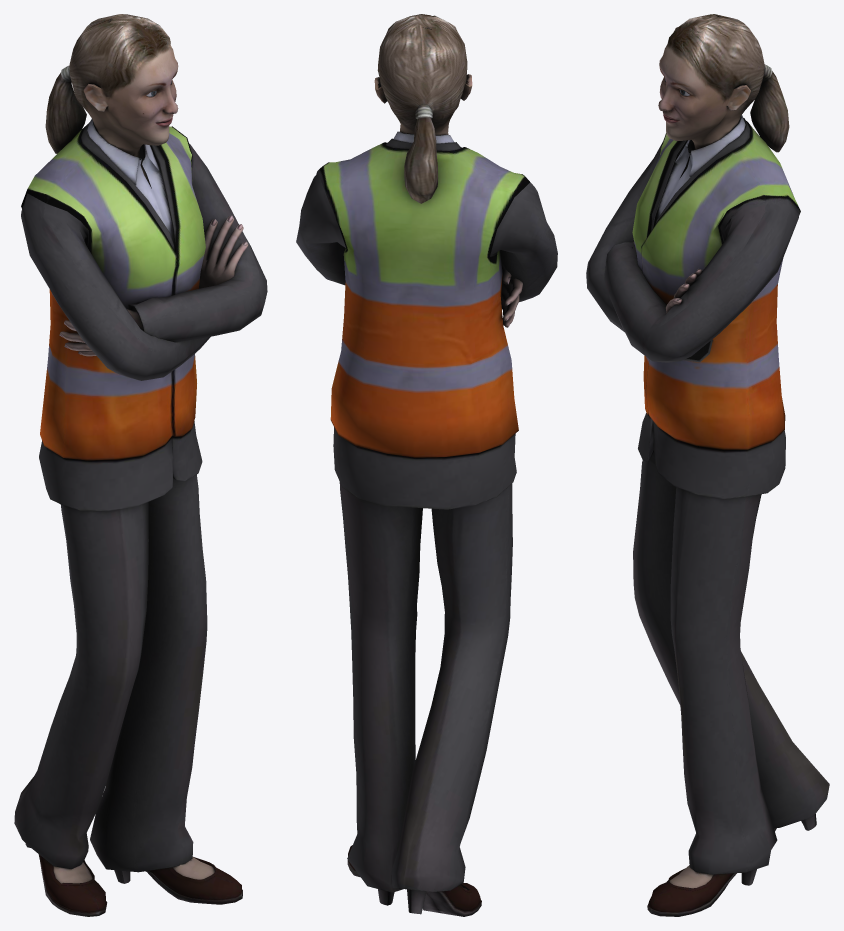
The model's file is SWRK01_06_01.FBX.
The picture shows the model from 3 angles, left to right: view 1: azimuth 30°, elevation 25°; view 2: azimuth 150°, elevation 25°; view 3: azimuth 270°, elevation 25°; orthographic projection. The views are drawn at different scales.
Parts seen in each view (by area): view 1: SWRK01_06_01; view 2: SWRK01_06_01; view 3: SWRK01_06_01.
Part boxes in pixels (x1=…): SWRK01_06_01: x1=14, y1=14, x2=267, y2=916; SWRK01_06_01: x1=296, y1=14, x2=557, y2=916; SWRK01_06_01: x1=586, y1=14, x2=829, y2=916.
Size of the model in its own units: 17.98 by 66.91 by 17.26.
1 material, 1 textured.
